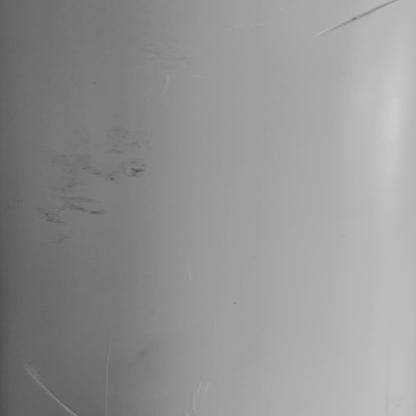sunshang: (314, 1, 402, 33), (24, 364, 78, 416)
